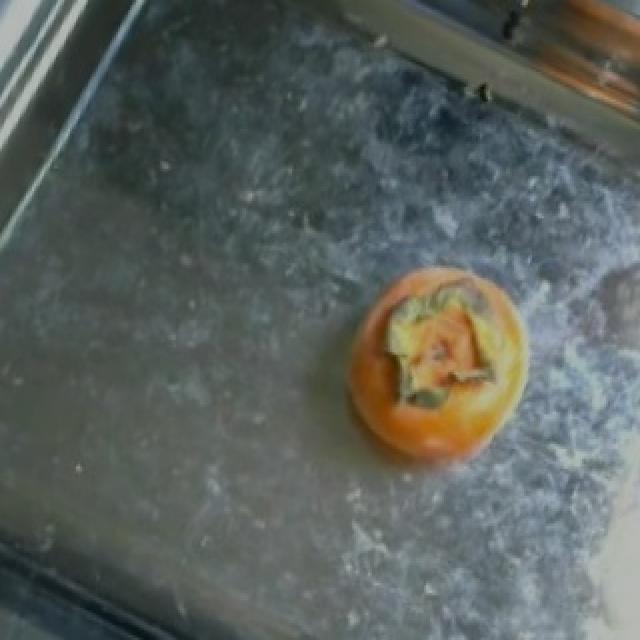Fruit: (326, 246, 548, 498)
